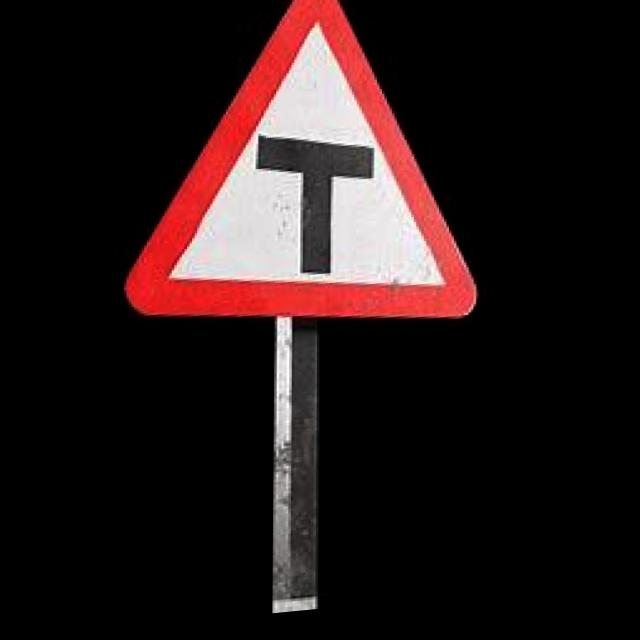T_INTERSECTION: (103, 0, 491, 385)
